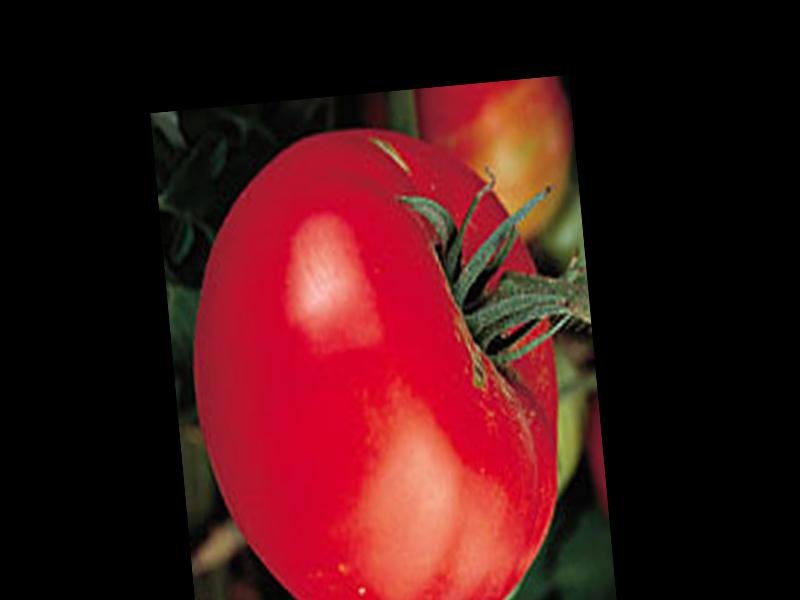Tomato: (172, 117, 577, 600)
